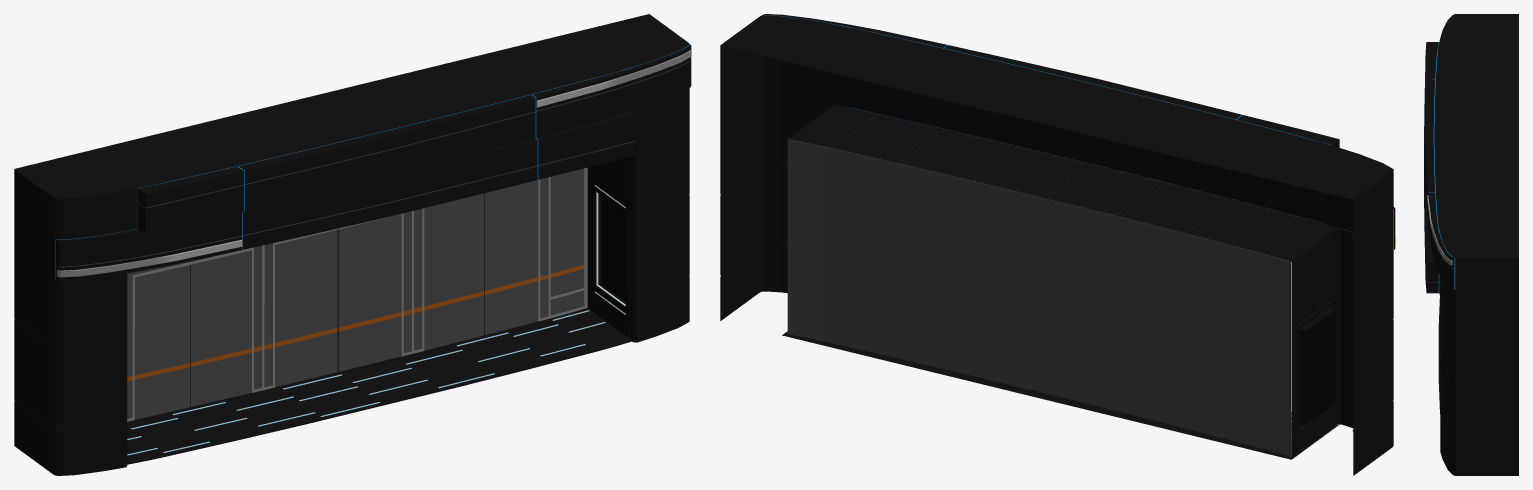
Rendered from Wall_Door_12x5x2_003_L0.fbx.
3 views of the same model, side by side, from view 1: azimuth 30°, elevation 25°; view 2: azimuth 150°, elevation 25°; view 3: azimuth 270°, elevation 25° (orthographic). The views are drawn at different scales.
Parts seen in each view (by area): view 1: Wall_Door_12x5x2_003_L0; view 2: Wall_Door_12x5x2_003_L0; view 3: Wall_Door_12x5x2_003_L0.
Boxes of the visible parts, x1=… form: Wall_Door_12x5x2_003_L0: x1=14, y1=14, x2=691, y2=475; Wall_Door_12x5x2_003_L0: x1=720, y1=14, x2=1395, y2=475; Wall_Door_12x5x2_003_L0: x1=1424, y1=14, x2=1518, y2=475.
Bounding box in the file's own units: 12 × 1.97 × 5.
